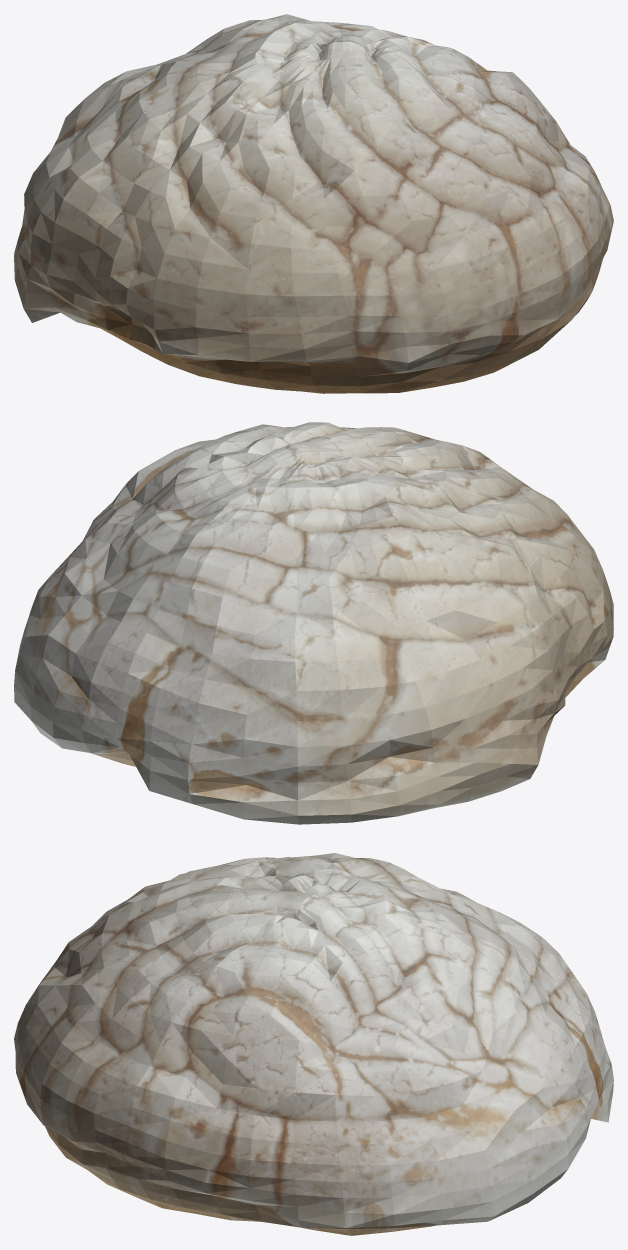
File: concha.glb
3 renders of one model, top to bottom at view 1: azimuth 30°, elevation 25°; view 2: azimuth 150°, elevation 25°; view 3: azimuth 270°, elevation 25°, orthographic. The views are drawn at different scales.
Visible parts, largest first — view 1: concha; view 2: concha; view 3: concha.
Boxes of the visible parts, x1,y1,x2,y2 form: concha: [14, 14, 613, 393]; concha: [14, 422, 613, 824]; concha: [14, 853, 613, 1235].
Size of the model in its own units: 0.3517 by 0.1684 by 0.364.
Materials: 1 (1 with a texture image).
